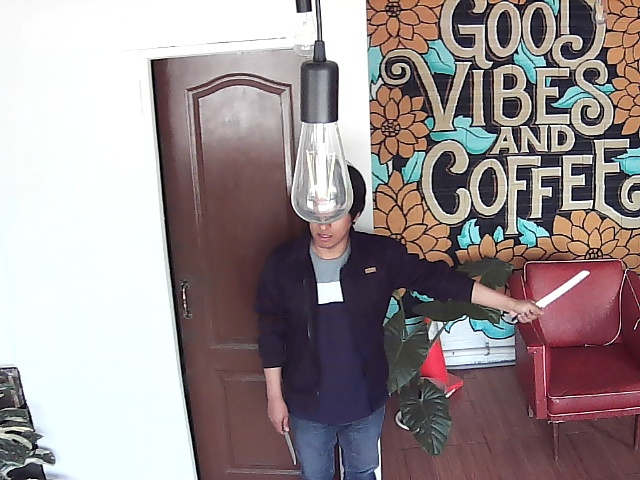cuchillo: (507, 264, 593, 327)
